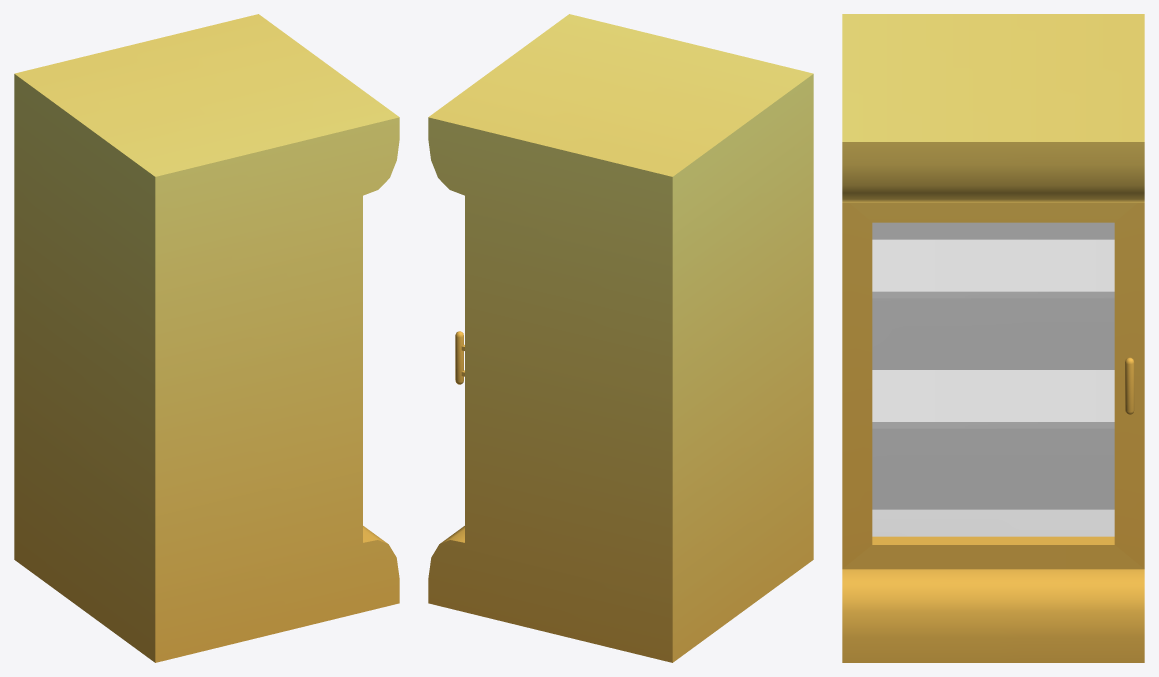
The model's file is Fridge02.fbx.
3 views of the same model, side by side, from view 1: azimuth 30°, elevation 25°; view 2: azimuth 150°, elevation 25°; view 3: azimuth 270°, elevation 25° (orthographic). The views are drawn at different scales.
Parts seen in each view (by area): view 1: Fridge.001; view 2: Fridge.001; view 3: Fridge.001.
Part boxes in pixels (x1,y1,x2,y2): Fridge.001: (14, 14, 399, 662); Fridge.001: (428, 14, 813, 662); Fridge.001: (842, 14, 1144, 662).
Size of the model in its own units: 40 by 76 by 40.
